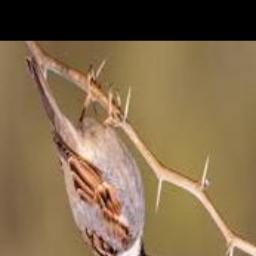Sparrow: (25, 53, 157, 256)
